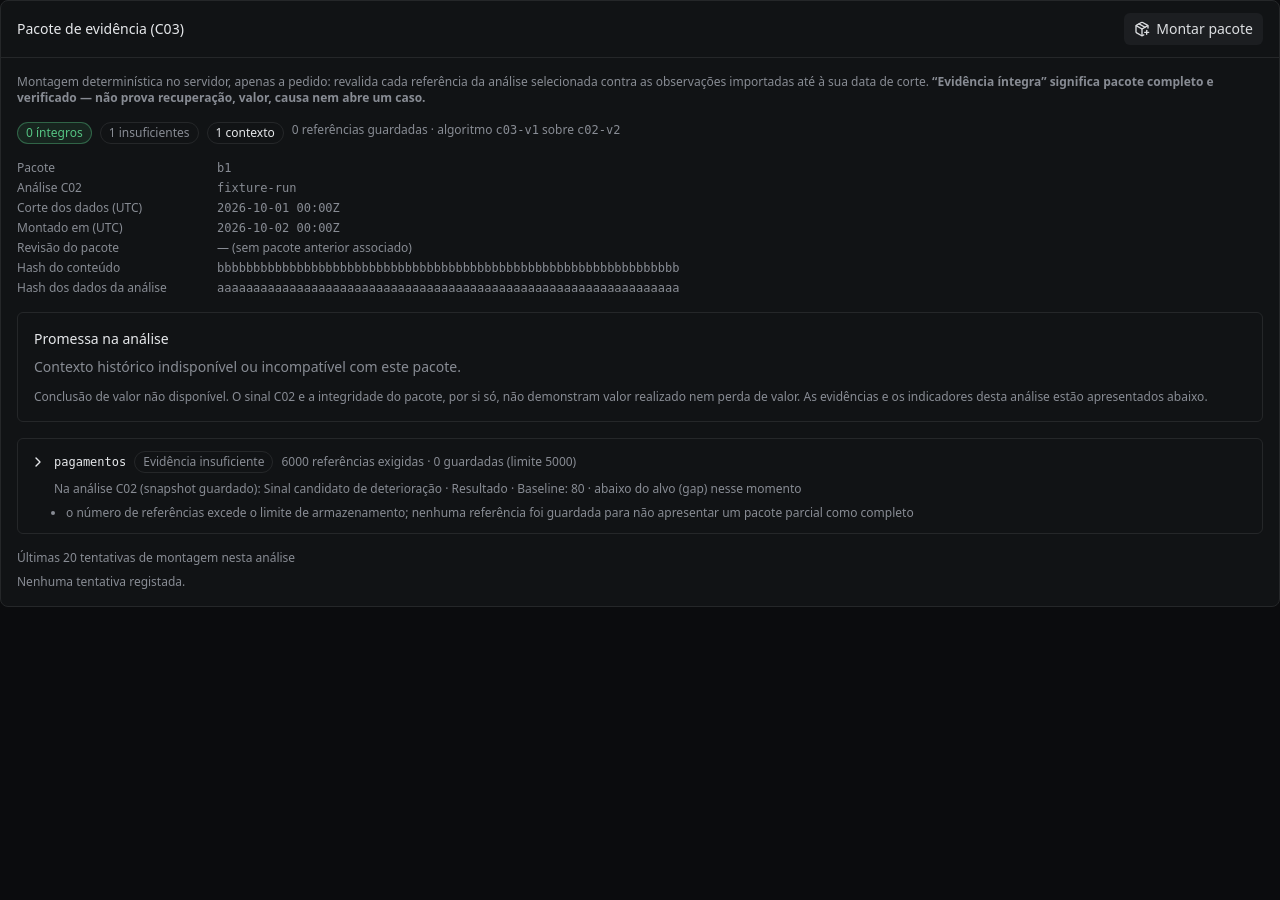
Test: EvidencePanel (C03 UI, controlled requests — not a real backend) › explains ref budget exceeded without showing a partial bundle as complete
The image size is (1280, 900).
Expected: the text "6000 referências exigidas · 0 guardadas (limite 5000)" is shown, [281,454,576,470]
Click the text "pagamentos".
click(90, 462)  # box [54,454,126,470]
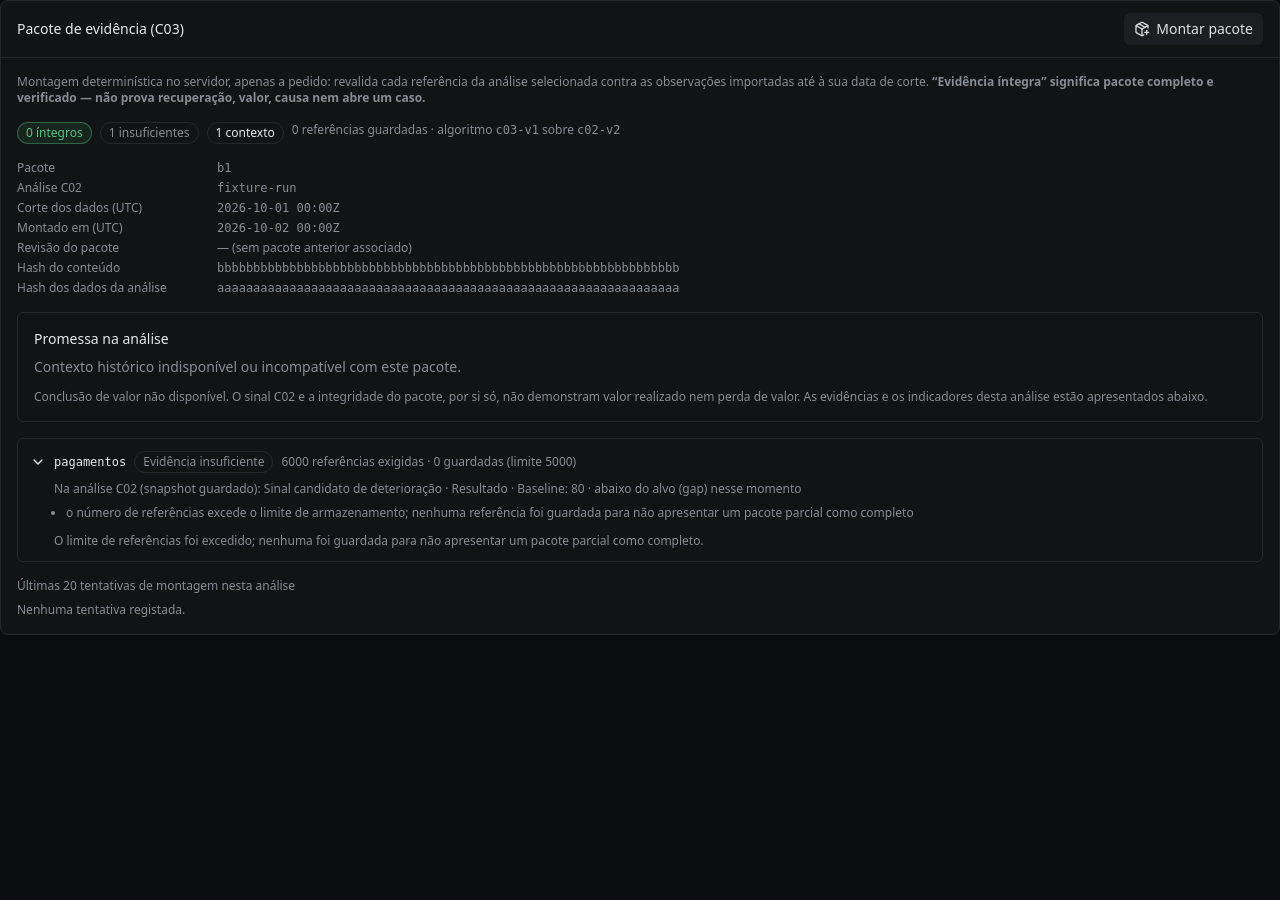
Expected: the text "nenhuma foi guardada para não apresentar um pacote parcial como completo" is shown, [54,532,704,549]
